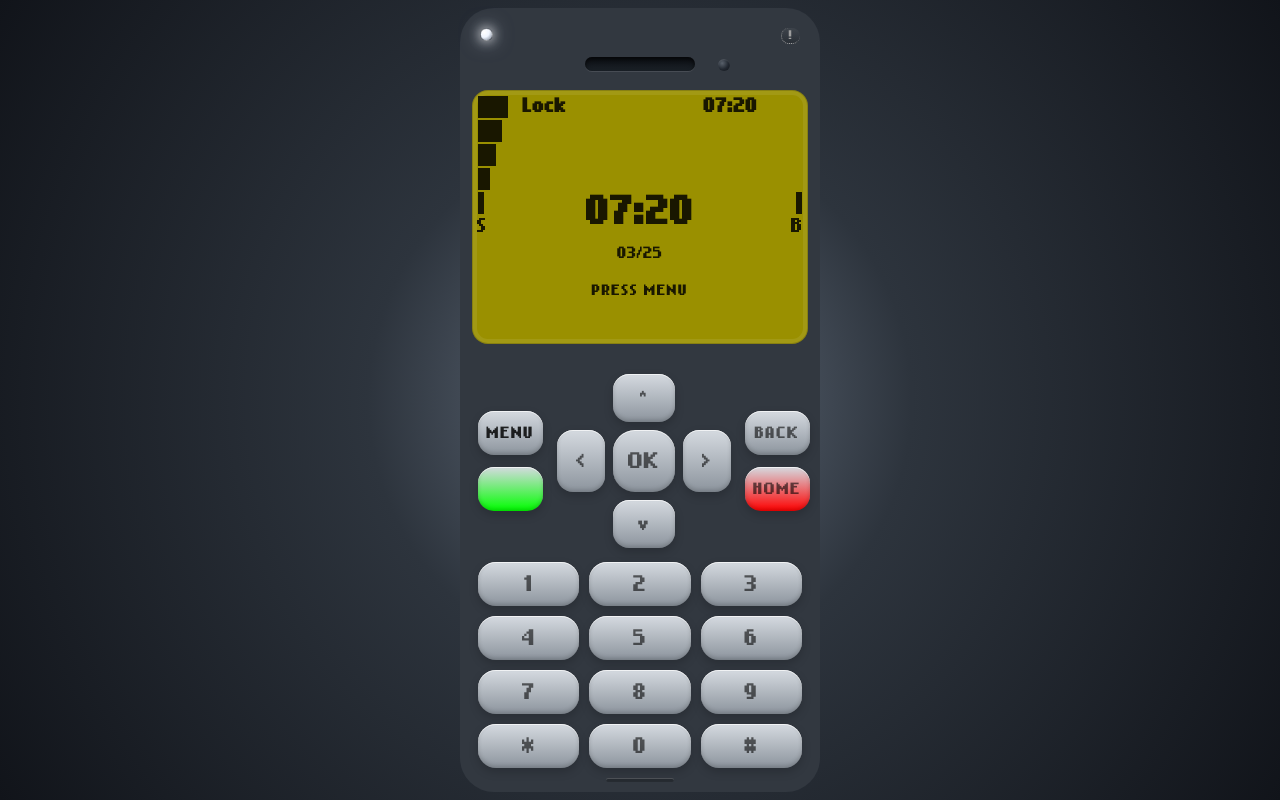
Test case: page indicator navigation integration › moves left and right through circular menu items
Expected: the text "Press Menu" is shown, 592,282 -> 688,299
Click the button "Menu": (510, 433) 478,411 -> 543,455
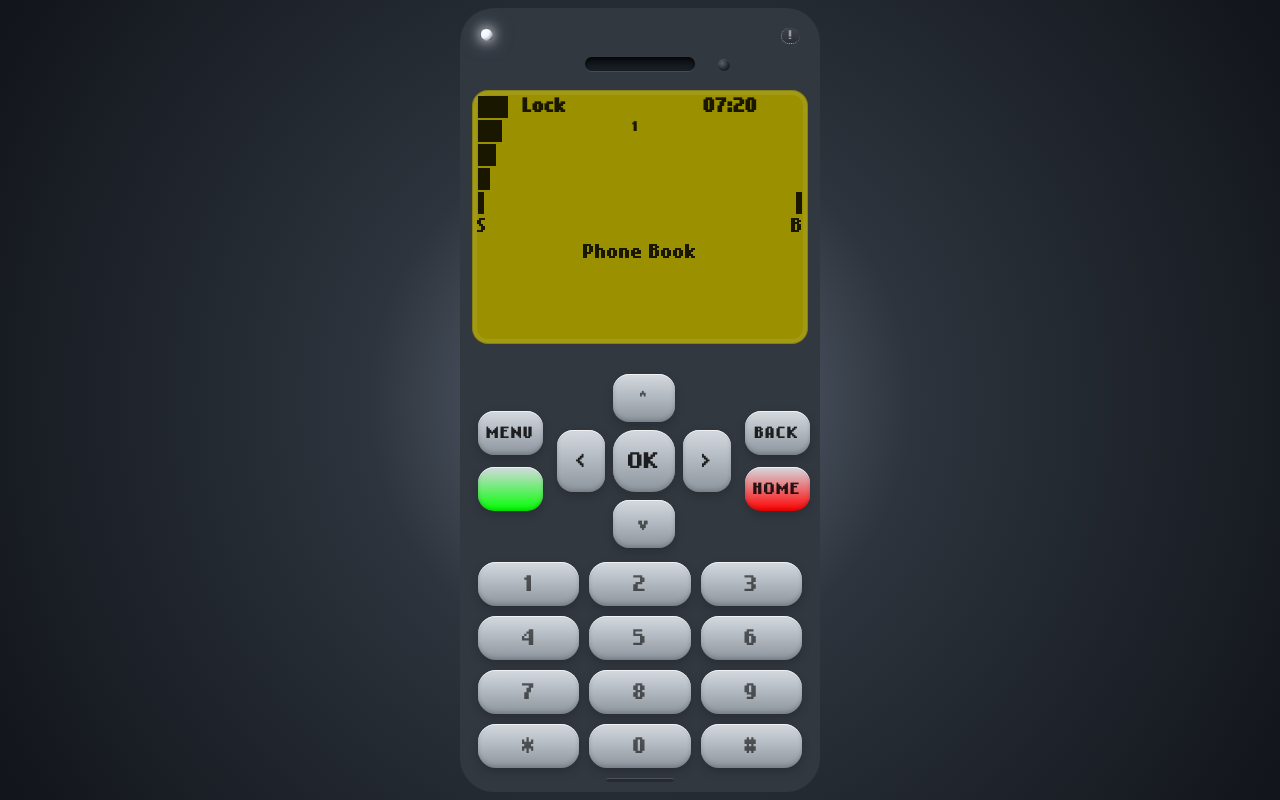
Expected: the text "Phone Book" is shown, 583,242 -> 697,262
Expected: the heading reads "1", 632,120 -> 638,134
Click the button named "Right": (707, 461) 683,430 -> 731,492
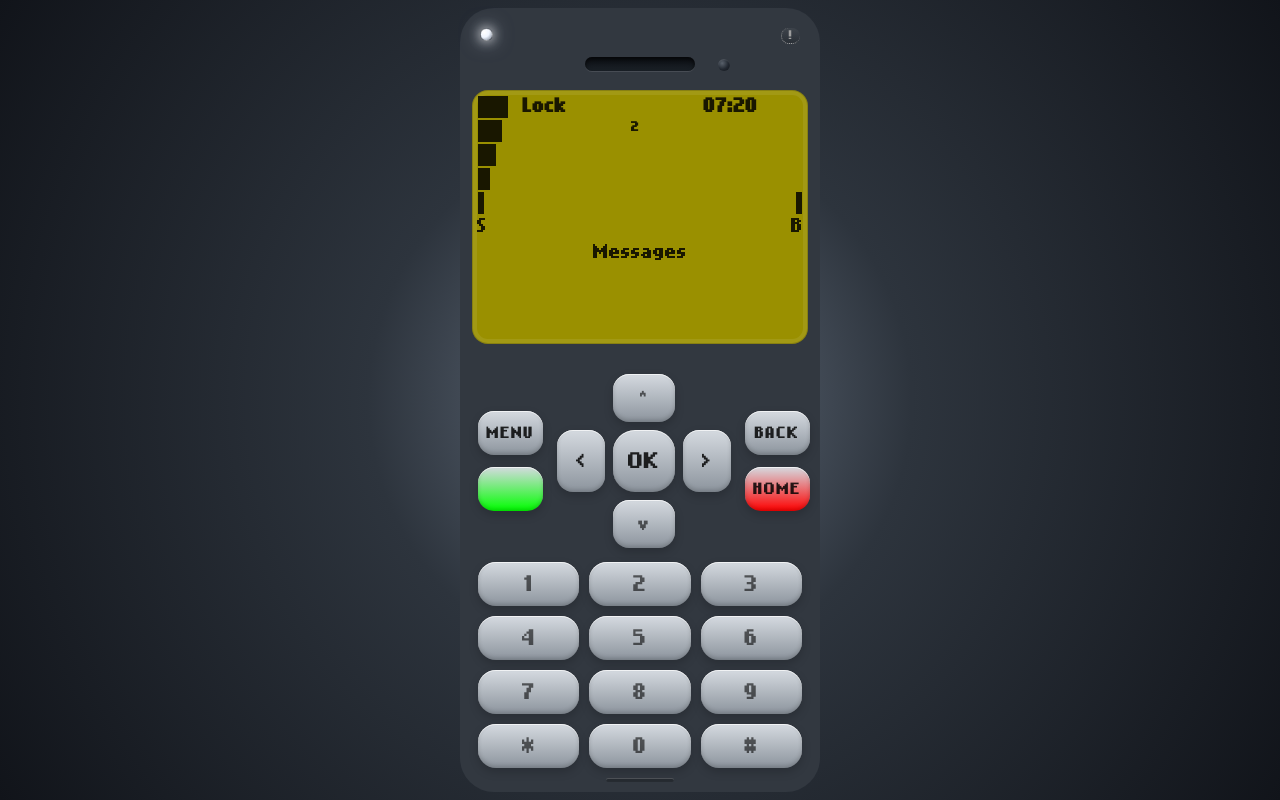
Expected: the text "Messages" is shown, 593,242 -> 687,262
Expected: the heading reads "2", 631,120 -> 639,134
Click the button named "Left": (581, 461) 557,430 -> 605,492
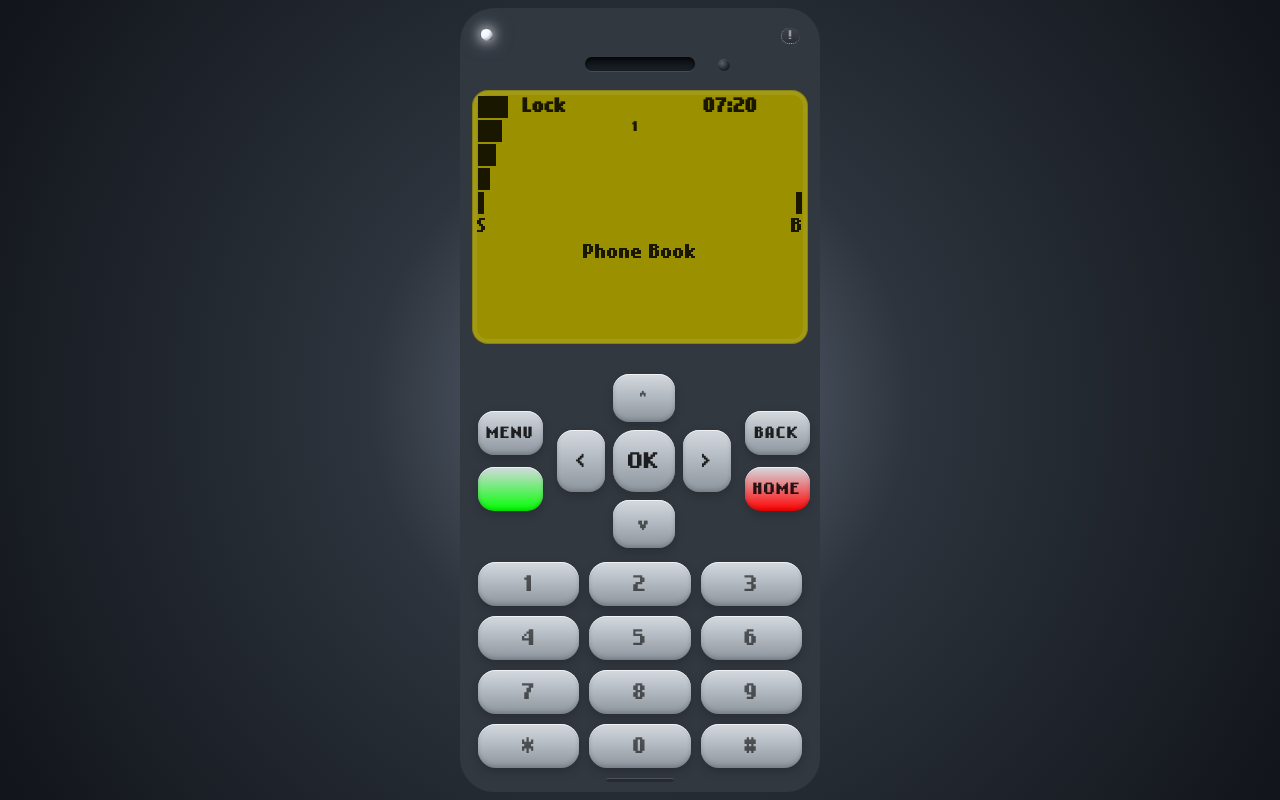
Expected: the text "Phone Book" is shown, 583,242 -> 697,262
Expected: the heading reads "1", 632,120 -> 638,134
